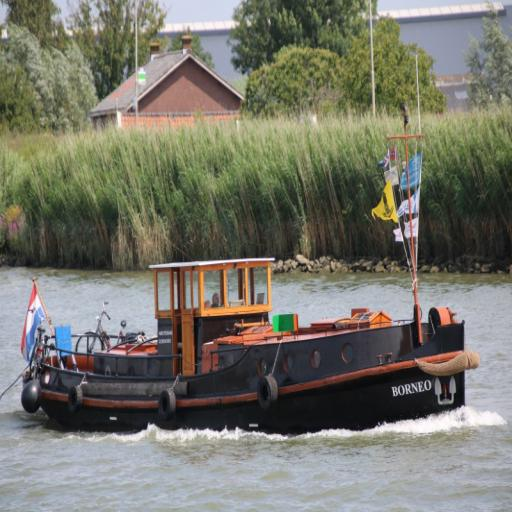tugboat: (15, 245, 484, 455)
